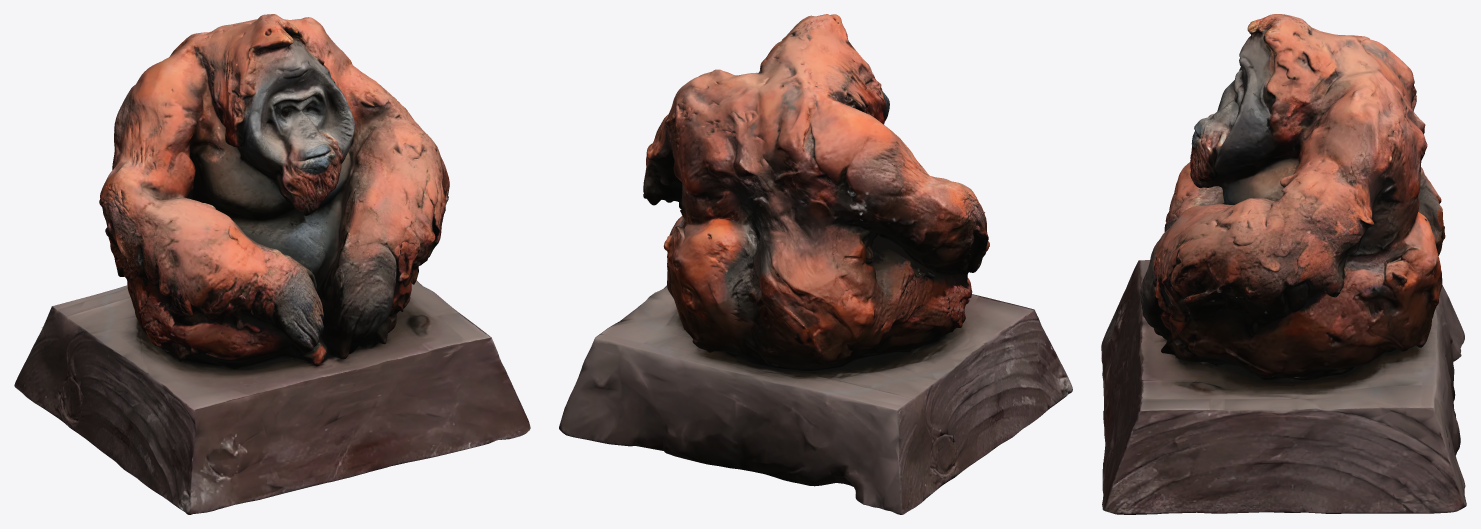
The model's file is gorilla.glb.
The picture shows the model from 3 angles, left to right: view 1: azimuth 30°, elevation 25°; view 2: azimuth 150°, elevation 25°; view 3: azimuth 270°, elevation 25°; orthographic projection. The views are drawn at different scales.
Visible parts, largest first — view 1: tripo_node_583c5b02-b27a-4c7a-a7ee-b6189f2438bf; view 2: tripo_node_583c5b02-b27a-4c7a-a7ee-b6189f2438bf; view 3: tripo_node_583c5b02-b27a-4c7a-a7ee-b6189f2438bf.
Boxes of the visible parts, left/top/right/bottom form: tripo_node_583c5b02-b27a-4c7a-a7ee-b6189f2438bf: left=14, top=14, right=530, bottom=514; tripo_node_583c5b02-b27a-4c7a-a7ee-b6189f2438bf: left=559, top=14, right=1072, bottom=514; tripo_node_583c5b02-b27a-4c7a-a7ee-b6189f2438bf: left=1101, top=14, right=1466, bottom=514.
Bounding box in the file's own units: 0.9004 × 0.9798 × 0.7894.
1 material, 1 textured.
